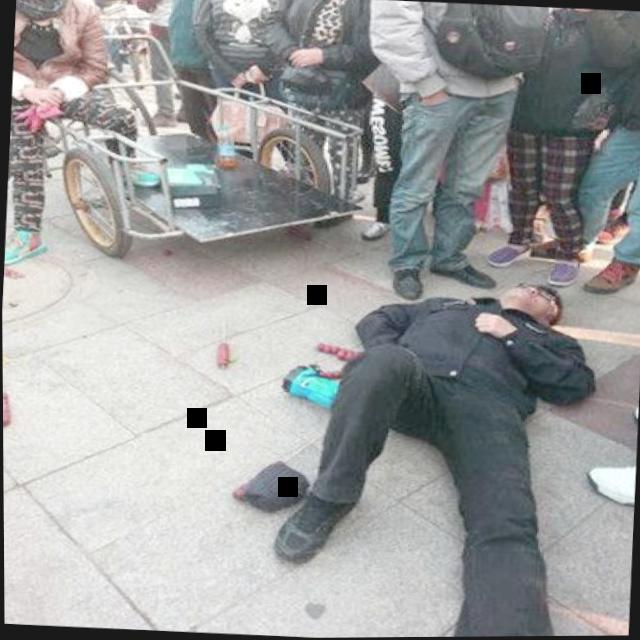Fall-Detected: (239, 251, 612, 639)
